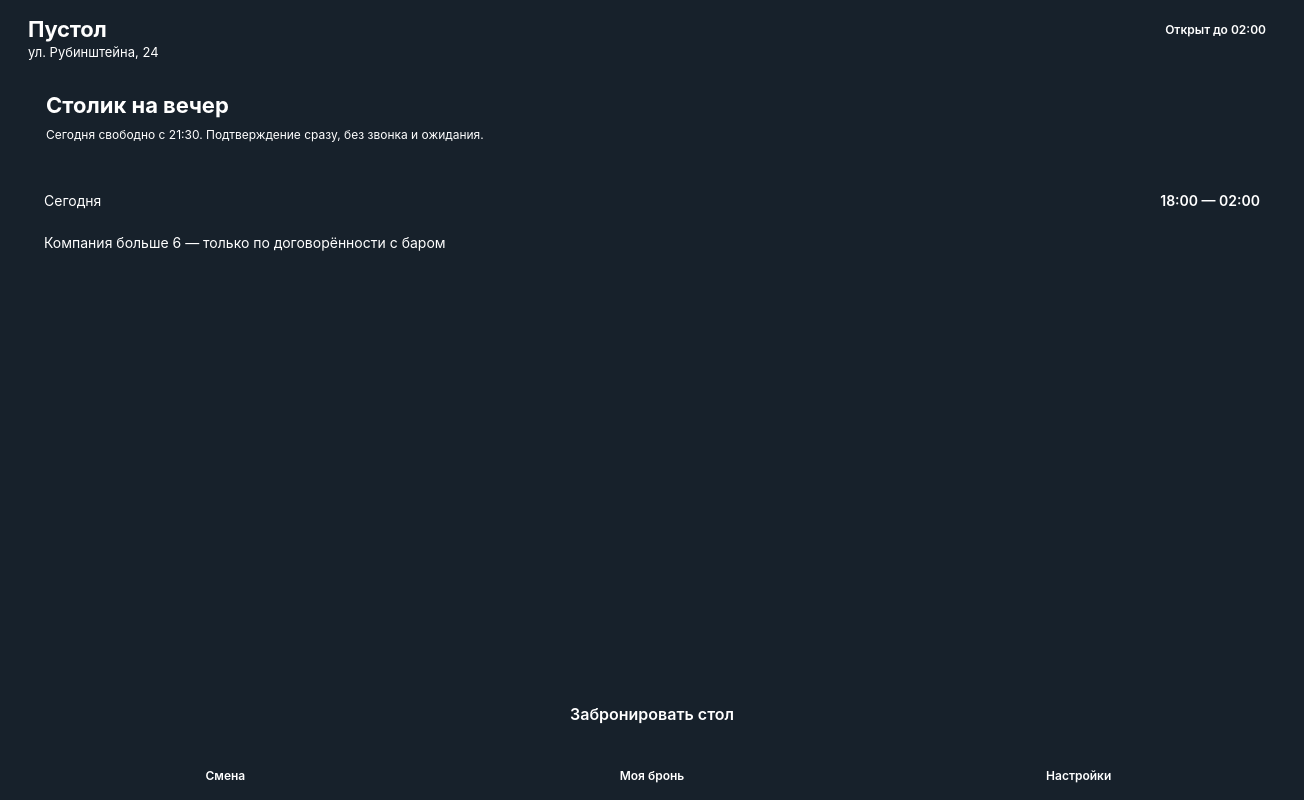
a shift left open on the bar › offers nothing to write into an evening that is already over
Click the button "Смена".
click(225, 774)  # box [12,748,439,799]
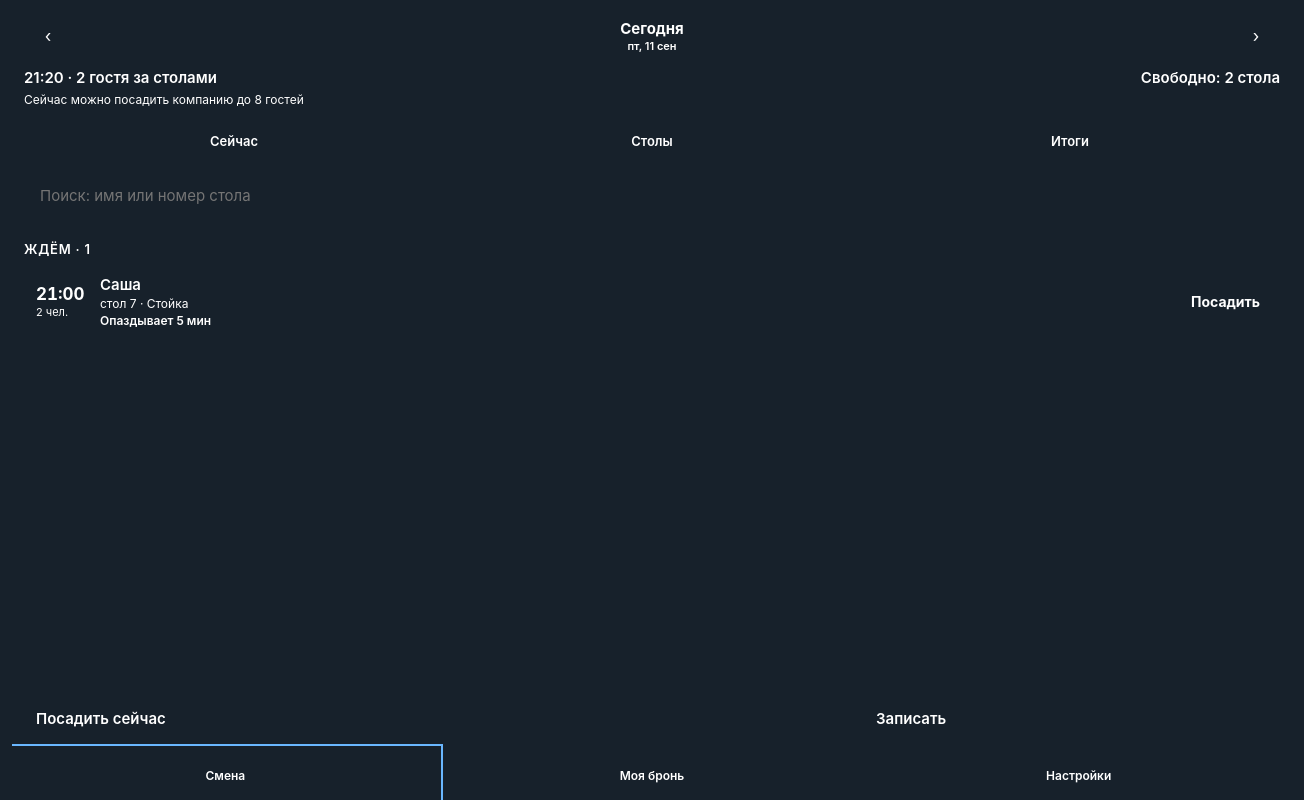
Expected: the button "Посадить сейчас" is shown, [24,696,178,740]
Click the button named "Предыдущий день".
click(48, 36)  # box [24,12,72,60]
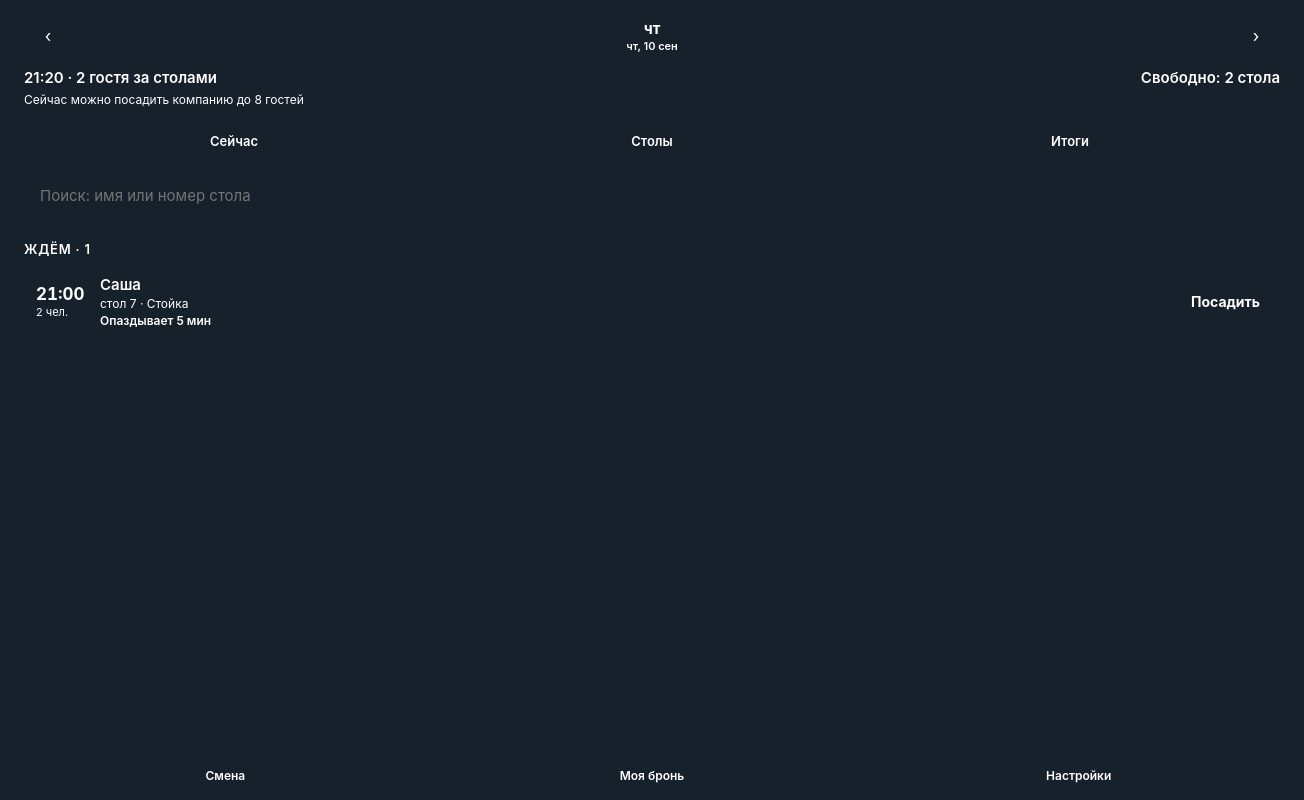
Expected: the text "чт, 10 сен" is shown, [626,39,678,53]
Expected: the button "Посадить сейчас" is gone
